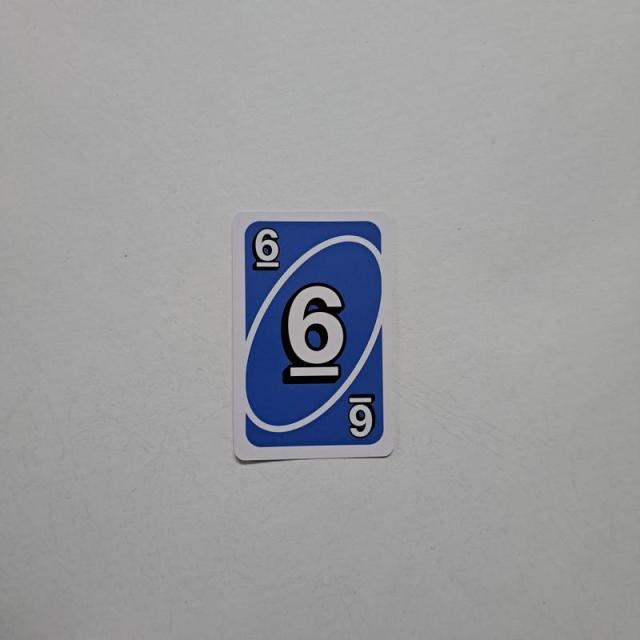Blue_Card: (242, 218, 390, 450)
Number_6: (251, 226, 284, 275)
